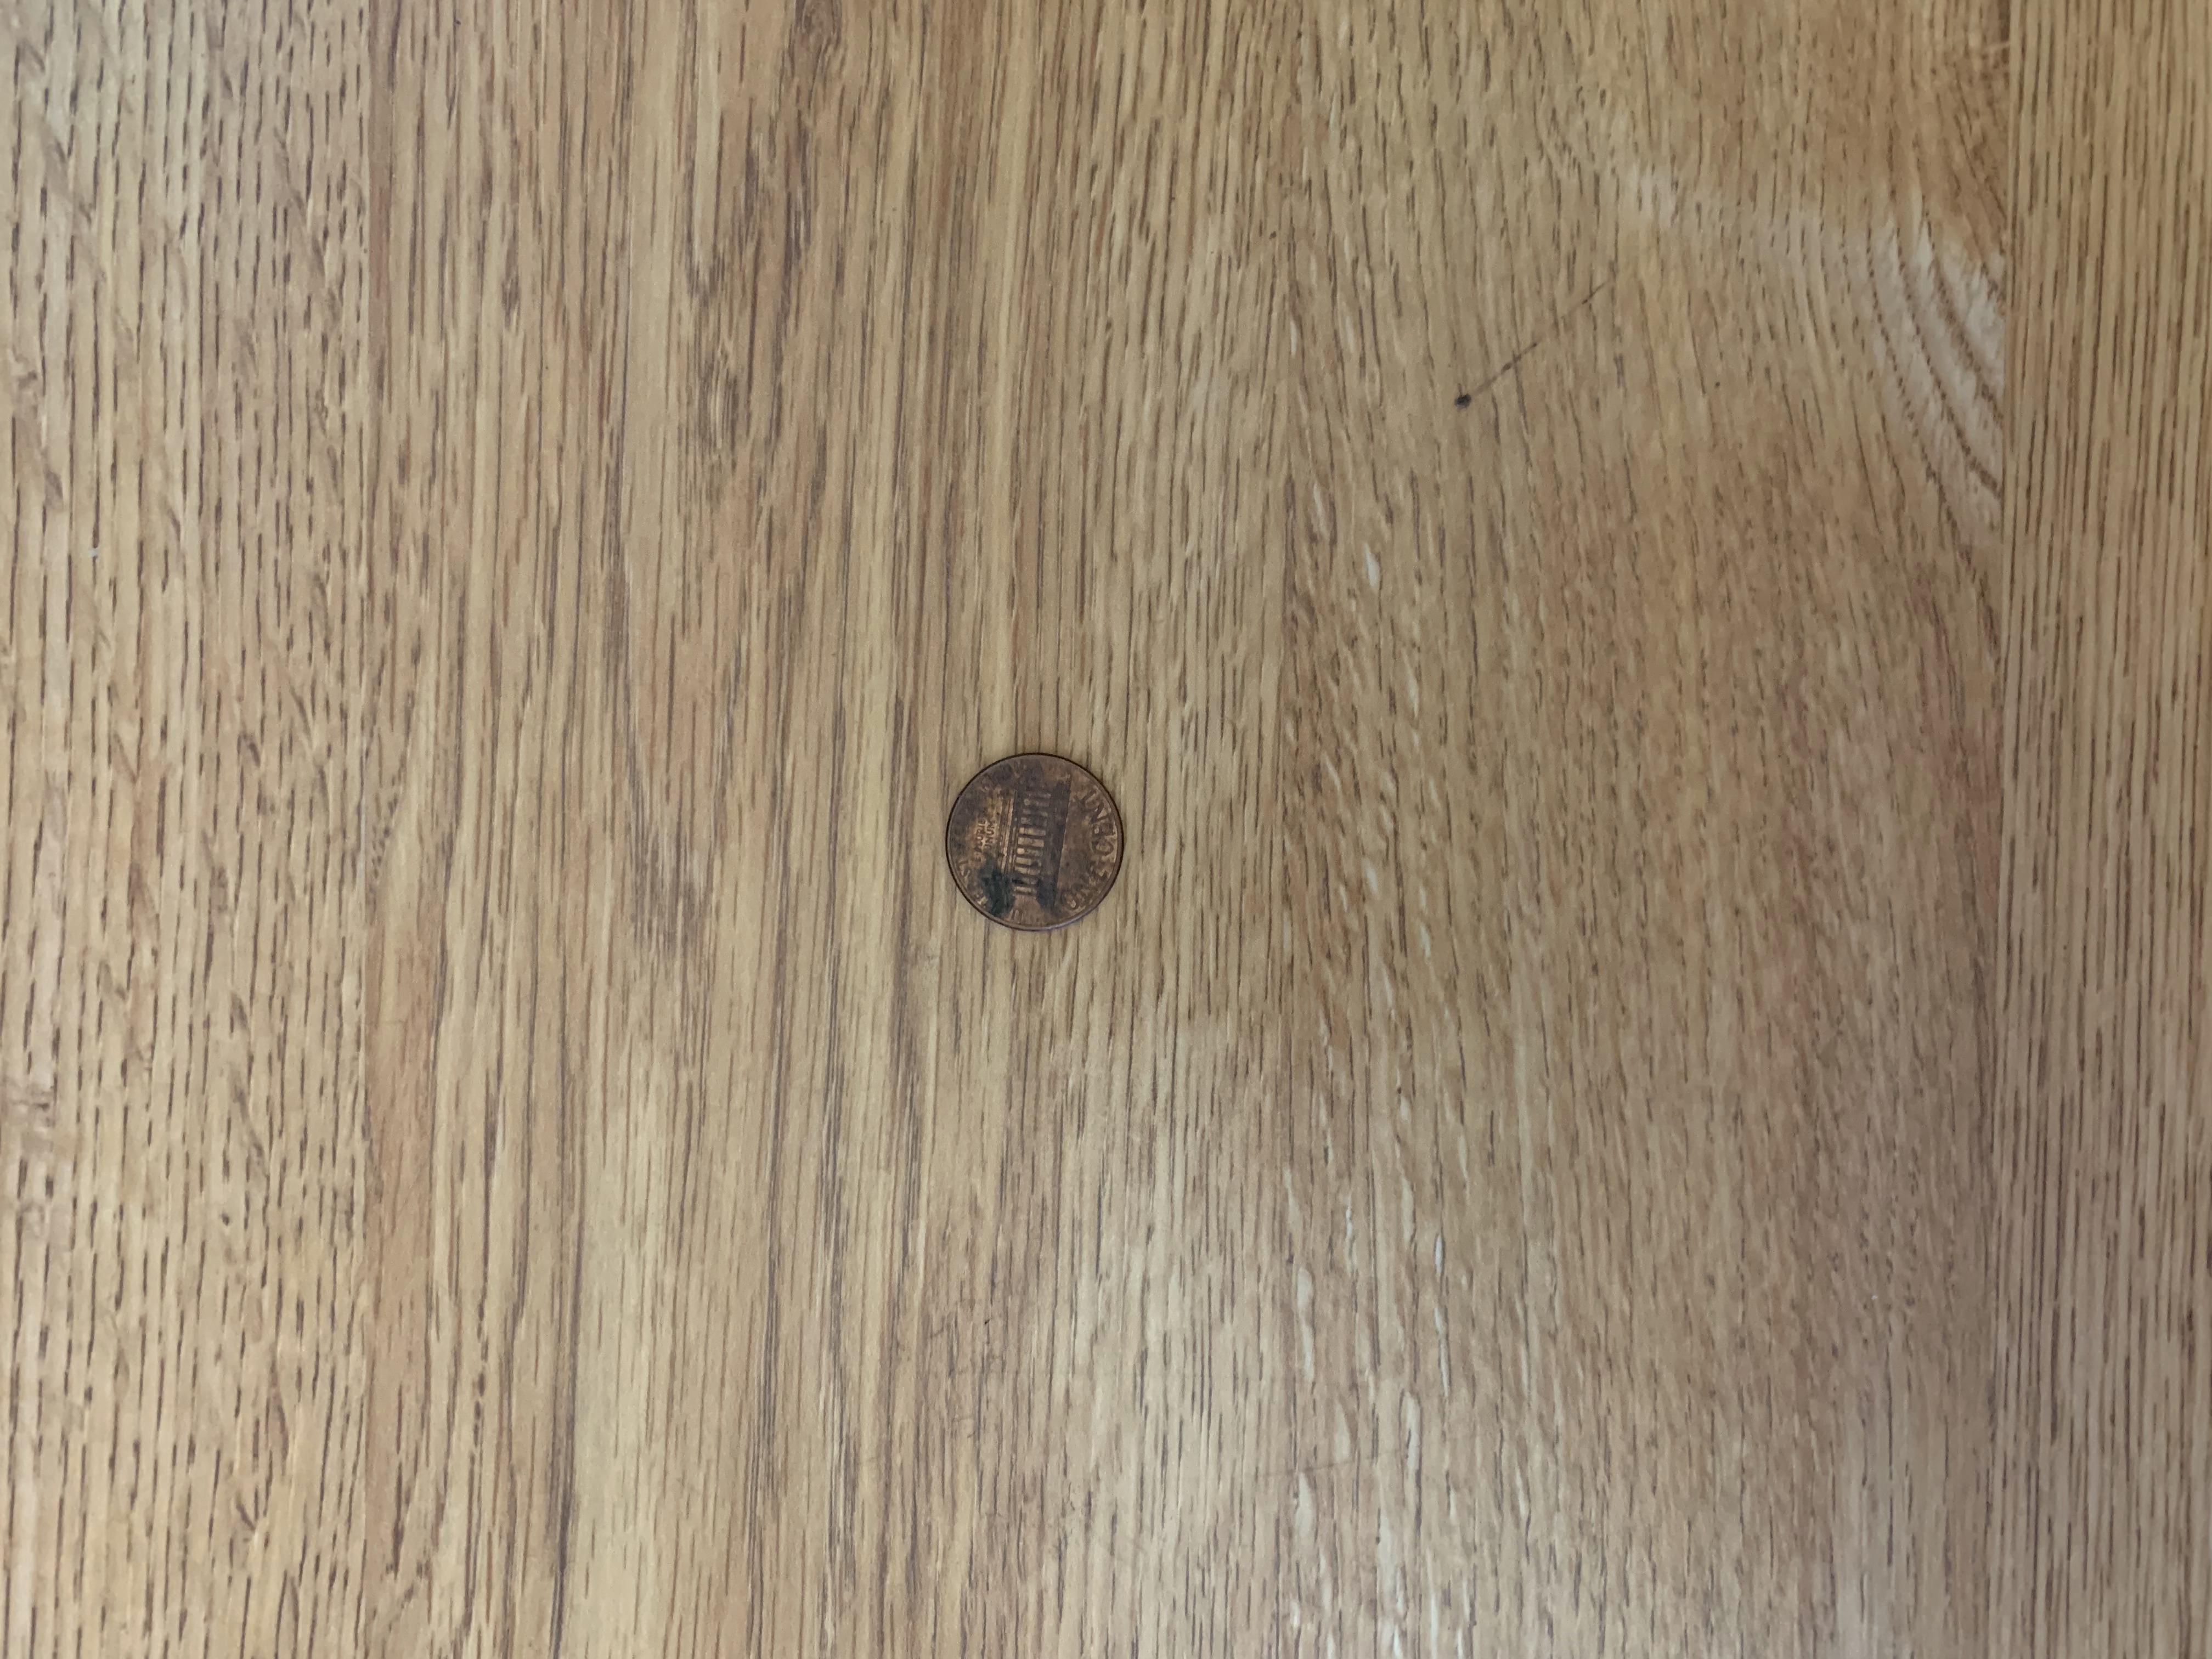Penny: (939, 748, 1130, 941)
